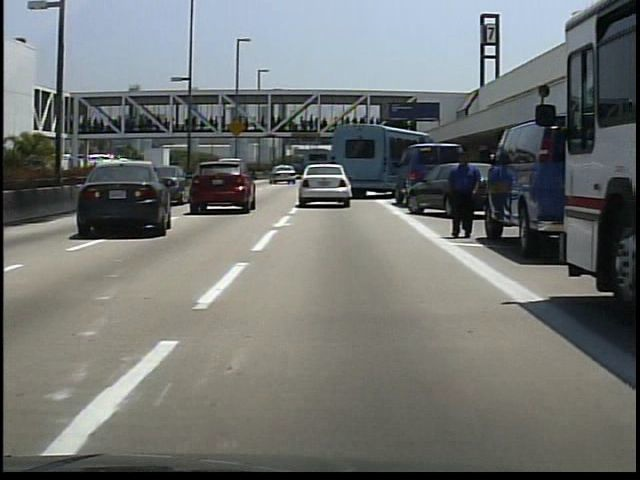person: (442, 148, 490, 245)
